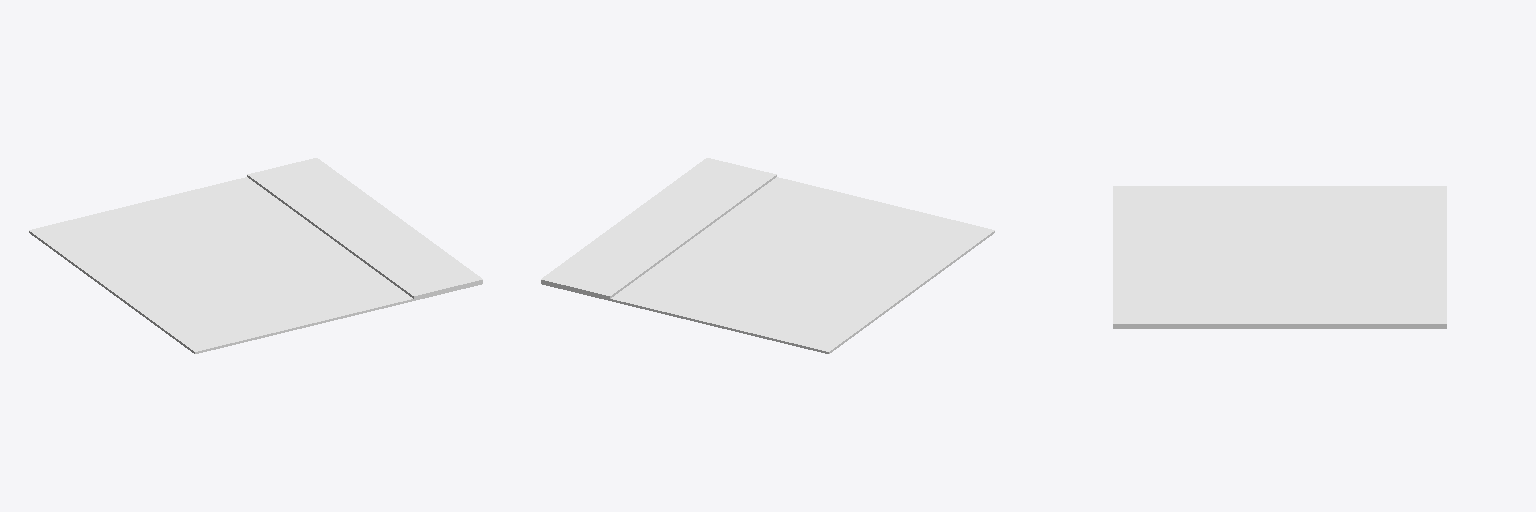
File: GDS2_Floor2-2.obj
3 views of the same model, side by side, from view 1: azimuth 30°, elevation 25°; view 2: azimuth 150°, elevation 25°; view 3: azimuth 270°, elevation 25° (orthographic).
Parts seen in each view (by area): view 1: GDS2_Floor2-2; view 2: GDS2_Floor2-2; view 3: GDS2_Floor2-2.
Part boxes in pixels (bbox=[...]): GDS2_Floor2-2: bbox=[29, 158, 482, 353]; GDS2_Floor2-2: bbox=[541, 158, 994, 353]; GDS2_Floor2-2: bbox=[1113, 186, 1446, 328].
Bounding box in the file's own units: 12.8 × 0.2 × 12.8.